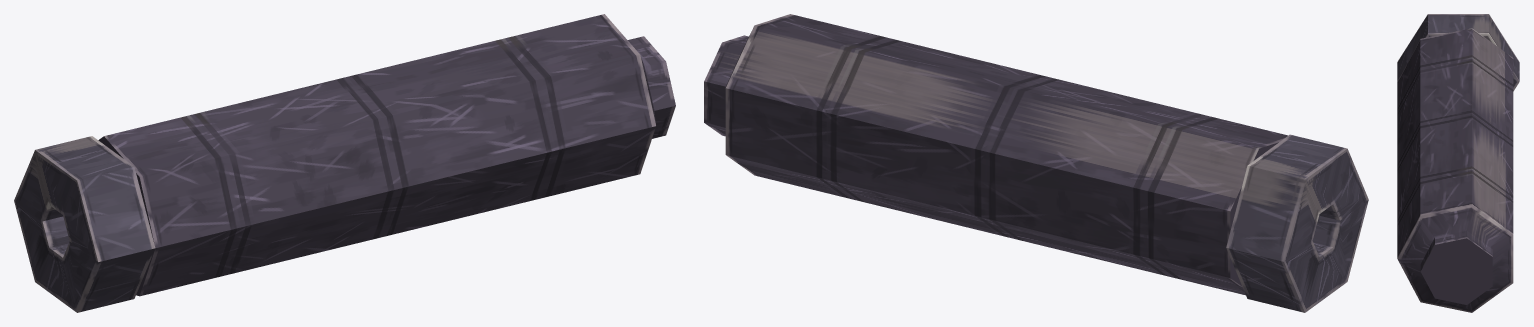
The model's file is att_suppressor_low.fbx.
3 renders of one model, left to right at view 1: azimuth 30°, elevation 25°; view 2: azimuth 150°, elevation 25°; view 3: azimuth 270°, elevation 25°, orthographic. The views are drawn at different scales.
Parts seen in each view (by area): view 1: att_suppressor; view 2: att_suppressor; view 3: att_suppressor.
Boxes of the visible parts, x1,y1,x2,y2 form: att_suppressor: (14, 14, 675, 312); att_suppressor: (704, 14, 1368, 312); att_suppressor: (1397, 14, 1519, 312).
Size of the model in its own units: 0.6225 by 0.1492 by 0.153.
1 material, 1 textured.
